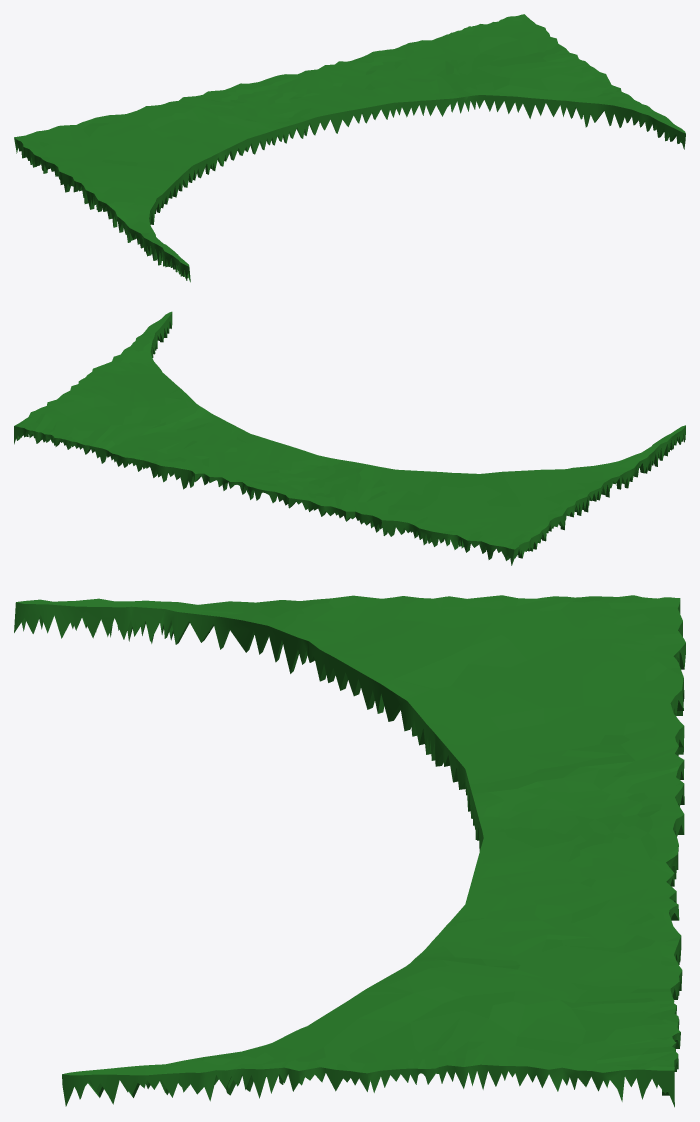
File: grass_layer_arc_giant.fbx
3 views of the same model, one above another, from view 1: azimuth 30°, elevation 25°; view 2: azimuth 150°, elevation 25°; view 3: azimuth 270°, elevation 25° (orthographic). The views are drawn at different scales.
Parts seen in each view (by area): view 1: grass_layer_arc_giant; view 2: grass_layer_arc_giant; view 3: grass_layer_arc_giant.
Part boxes in pixels (<box>): grass_layer_arc_giant: <box>14,14,685,282</box>; grass_layer_arc_giant: <box>14,311,685,565</box>; grass_layer_arc_giant: <box>14,595,685,1107</box>.
Size of the model in its own units: 4932 by 257 by 2932.
